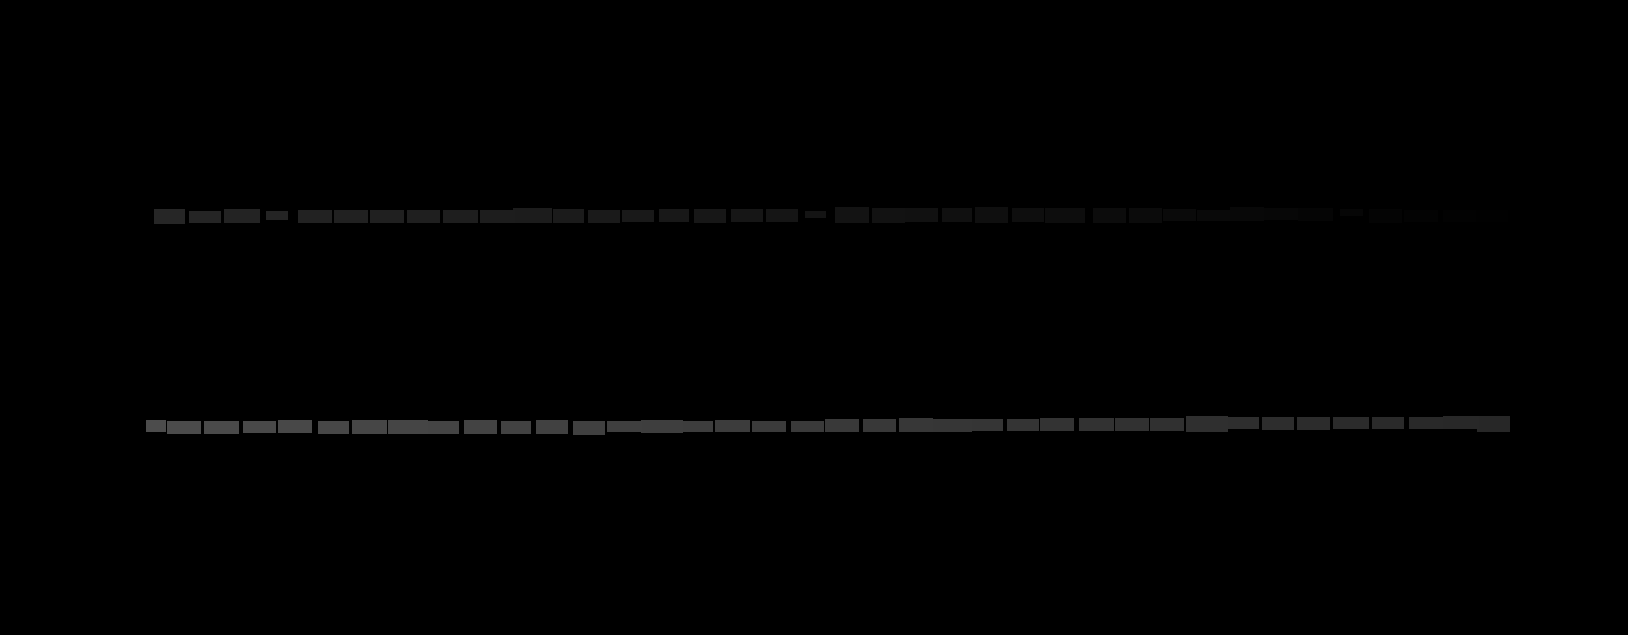light: (1186, 416, 1228, 432), (1044, 208, 1085, 223), (513, 208, 552, 223), (835, 208, 869, 223), (388, 420, 428, 434), (641, 420, 683, 433), (1129, 208, 1162, 223), (1093, 208, 1127, 223), (975, 208, 1008, 223), (872, 208, 905, 223), (224, 209, 260, 223), (1477, 416, 1510, 432), (154, 209, 185, 224), (933, 419, 972, 432), (1298, 208, 1333, 221), (480, 210, 515, 223), (352, 420, 387, 434), (1369, 209, 1402, 223), (1012, 208, 1044, 222), (905, 208, 938, 222), (694, 209, 726, 223), (443, 210, 478, 223), (370, 210, 404, 223), (298, 210, 332, 223), (899, 418, 933, 432), (1230, 208, 1264, 221), (407, 210, 440, 223), (334, 210, 368, 223), (464, 420, 497, 434), (1443, 416, 1478, 429), (1079, 418, 1114, 431), (203, 421, 239, 434), (942, 208, 972, 222), (553, 209, 584, 223), (766, 209, 798, 222), (731, 209, 763, 222), (588, 210, 620, 223), (573, 421, 605, 435), (536, 420, 568, 434), (1404, 210, 1438, 222), (1264, 208, 1298, 220), (1115, 418, 1149, 431), (278, 420, 313, 433), (167, 421, 201, 434), (1333, 417, 1369, 429), (1474, 210, 1508, 222), (1443, 210, 1476, 222), (1163, 209, 1196, 221), (1297, 417, 1330, 430), (1150, 418, 1184, 431), (1040, 418, 1074, 431), (863, 419, 896, 432), (825, 419, 859, 432), (426, 421, 459, 434), (659, 209, 689, 222), (622, 210, 654, 222), (189, 211, 221, 223), (1261, 417, 1294, 430), (1409, 417, 1443, 429), (715, 420, 750, 432), (318, 421, 349, 434), (1197, 210, 1230, 221), (243, 421, 276, 433), (1372, 417, 1404, 429), (1227, 417, 1259, 429), (1007, 419, 1039, 431), (971, 419, 1003, 431), (501, 421, 531, 434), (752, 421, 786, 432), (607, 421, 642, 432), (791, 421, 824, 432), (680, 421, 713, 432), (146, 420, 166, 432), (266, 211, 288, 220), (1340, 209, 1363, 216), (805, 211, 826, 218)
